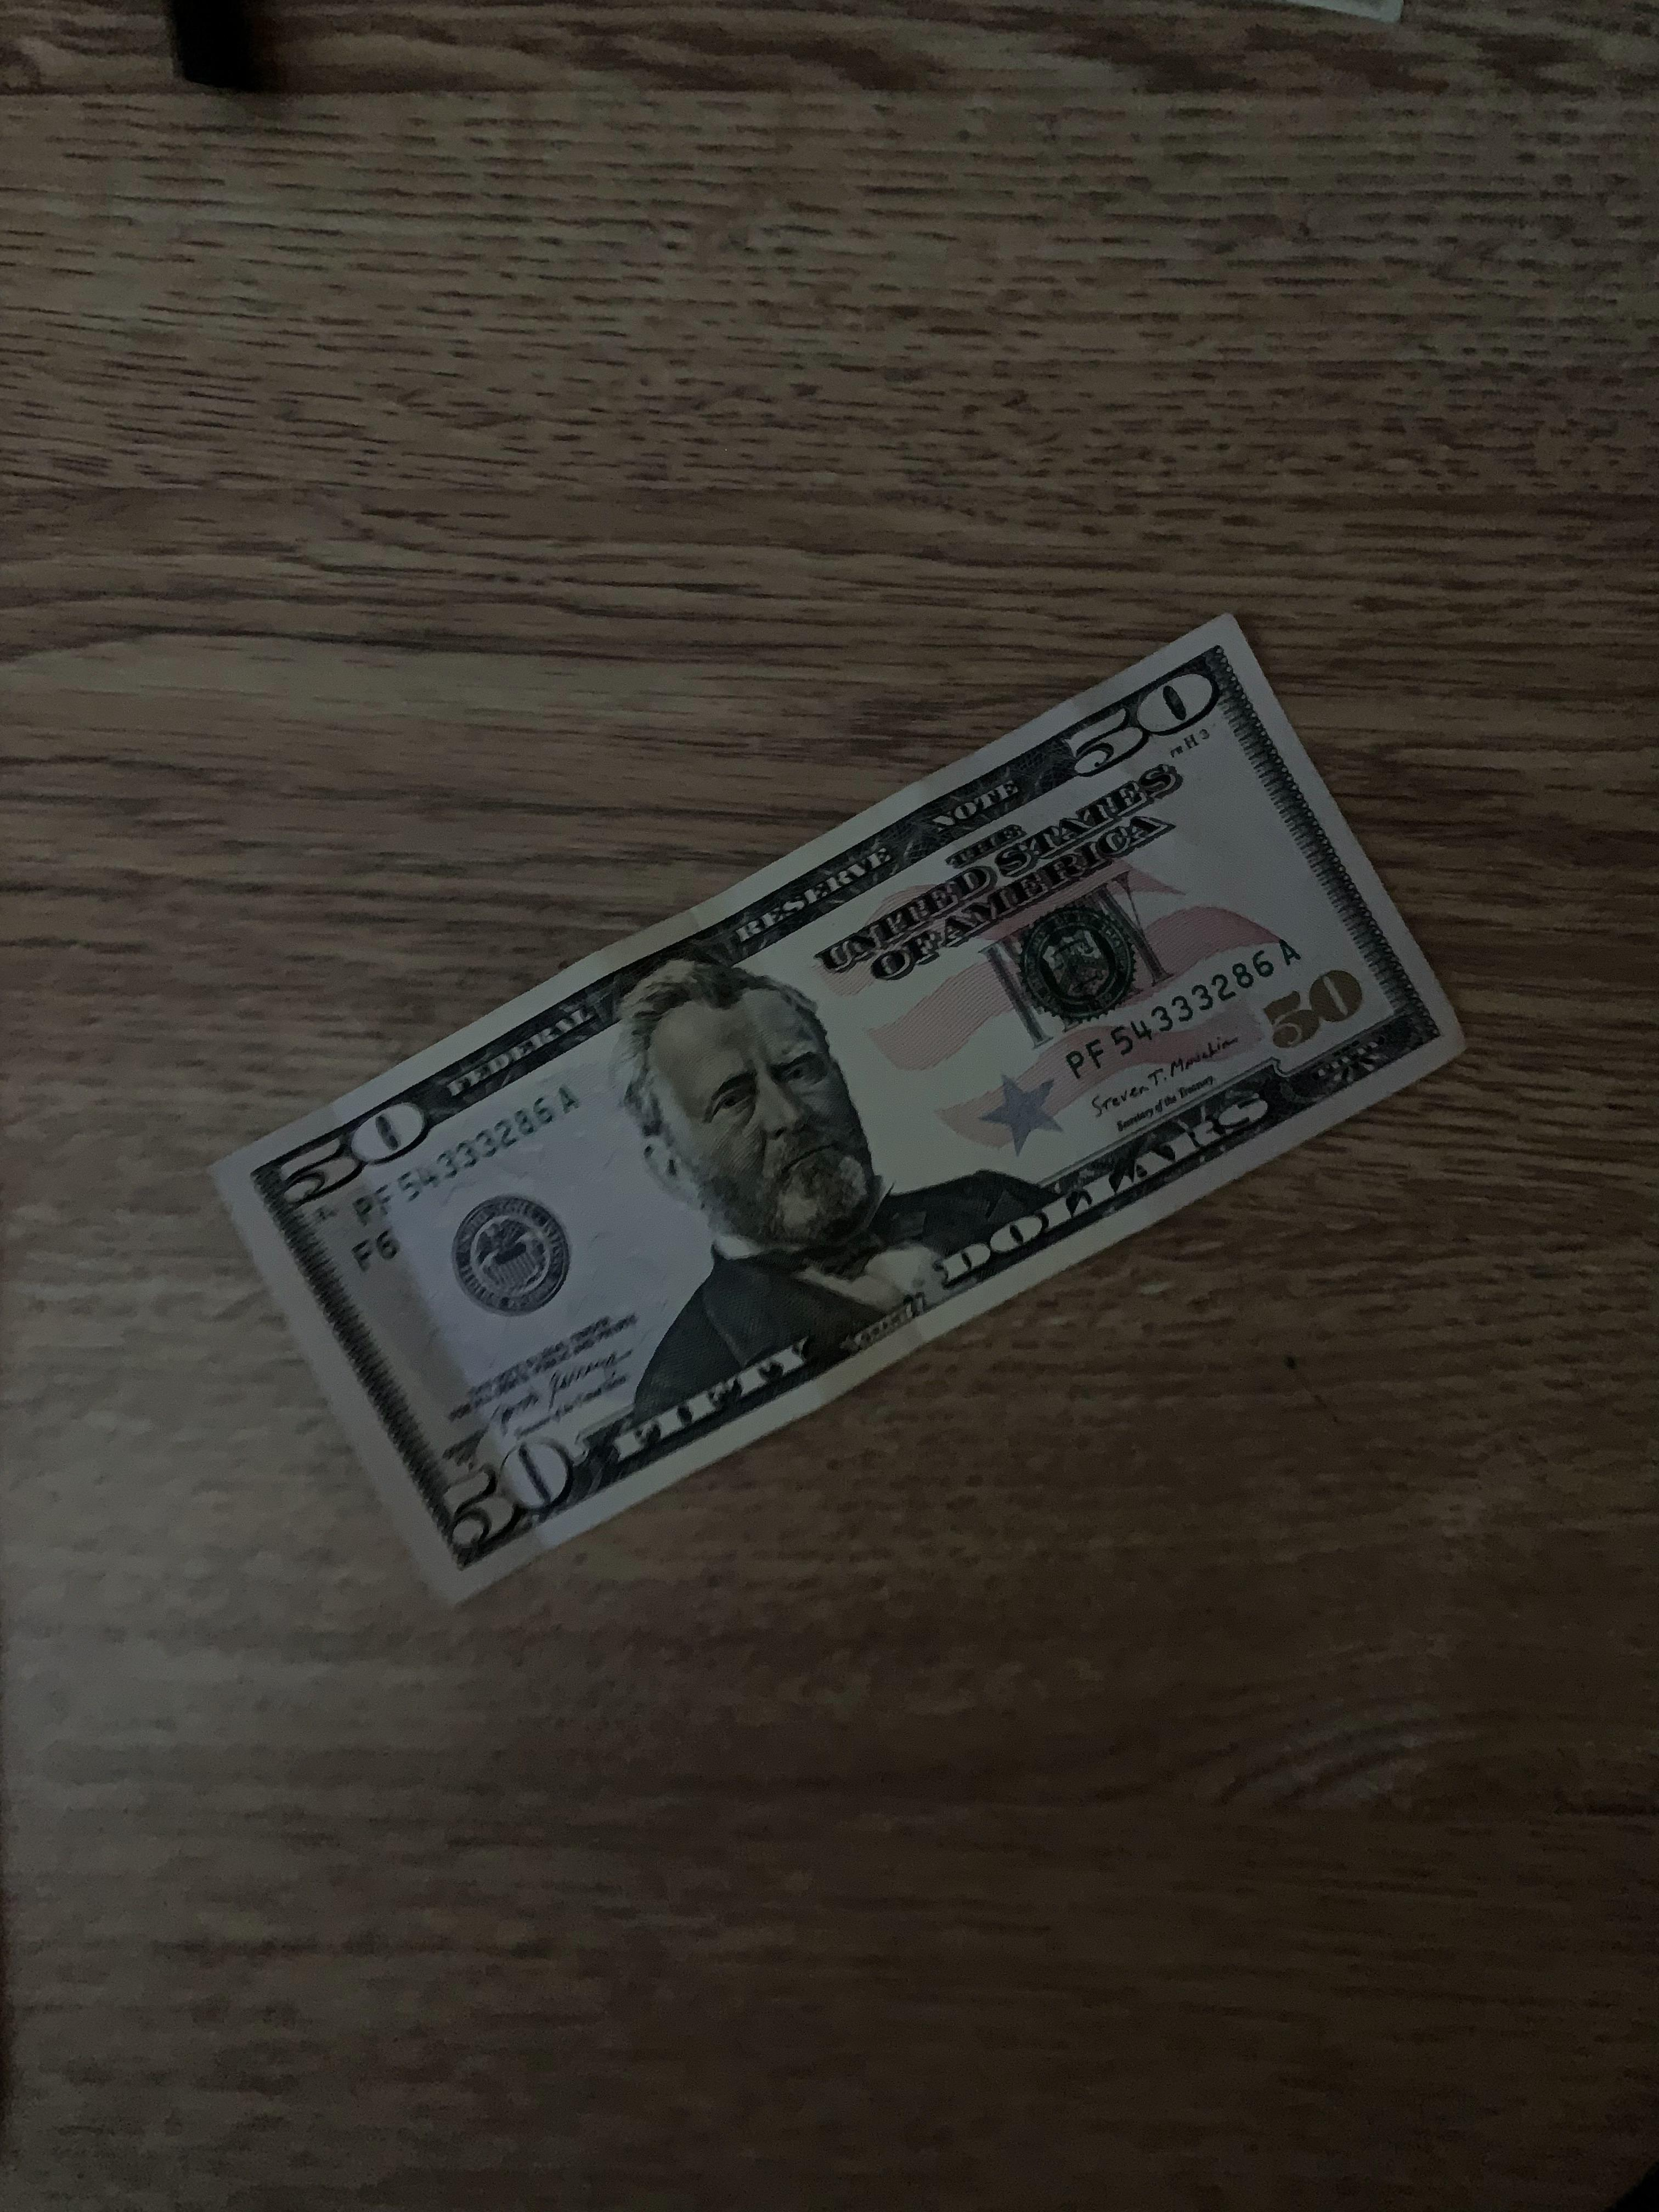FiftyBill: (202, 606, 1476, 1644)
